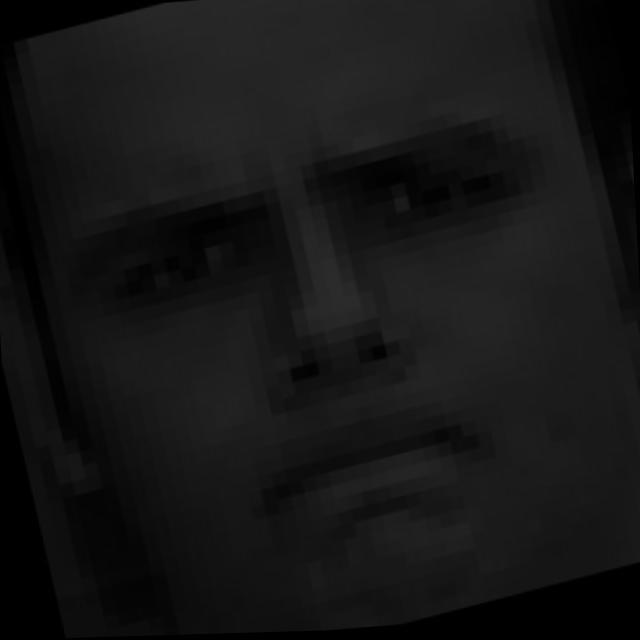Angry: (53, 75, 600, 585)
